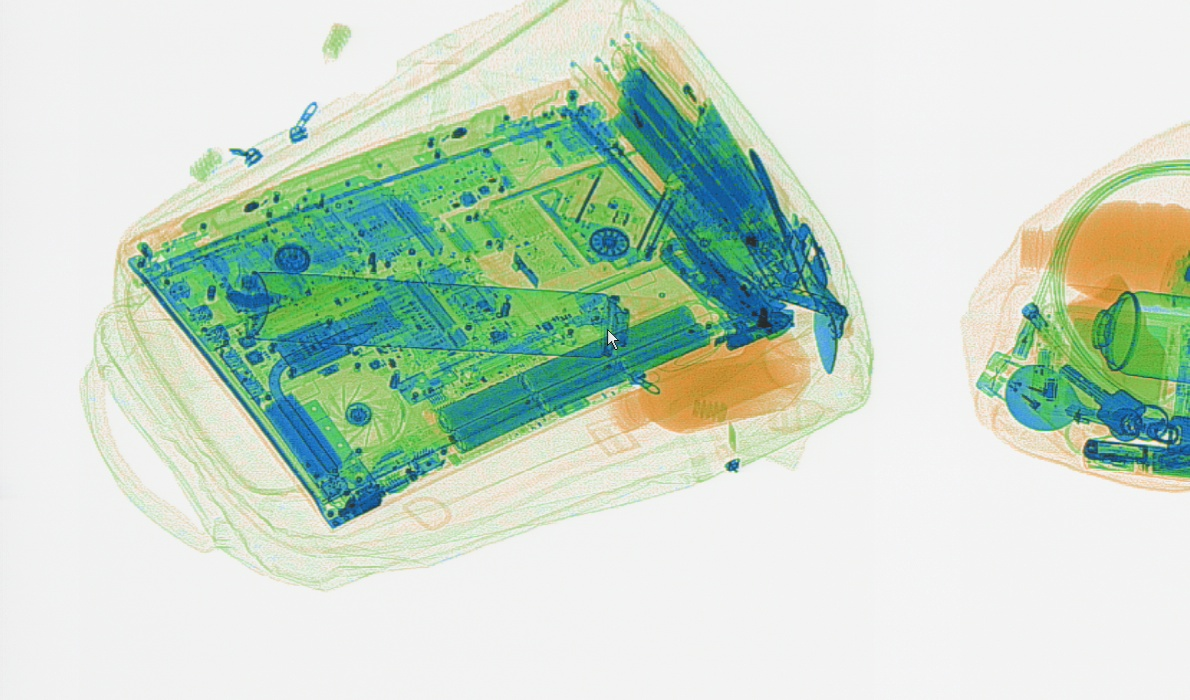knife: (654, 237, 795, 335)
lighter: (648, 34, 721, 123), (972, 368, 1061, 434), (983, 348, 1083, 406)
powerbank: (604, 57, 767, 238)
pressure: (243, 268, 673, 361)
